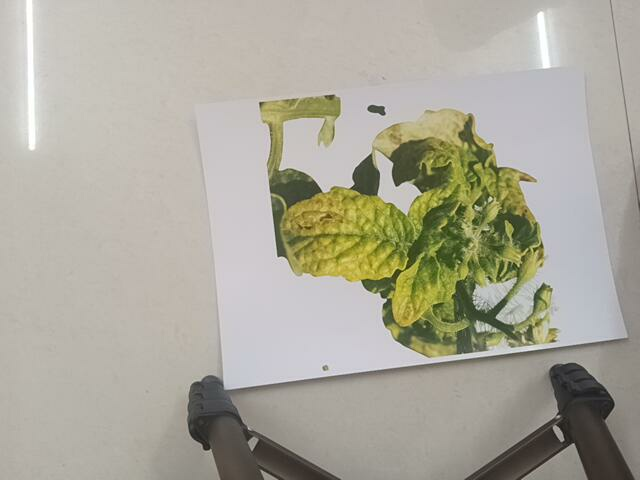Tomamto_Leaf_curl_virus: (253, 105, 565, 354)
